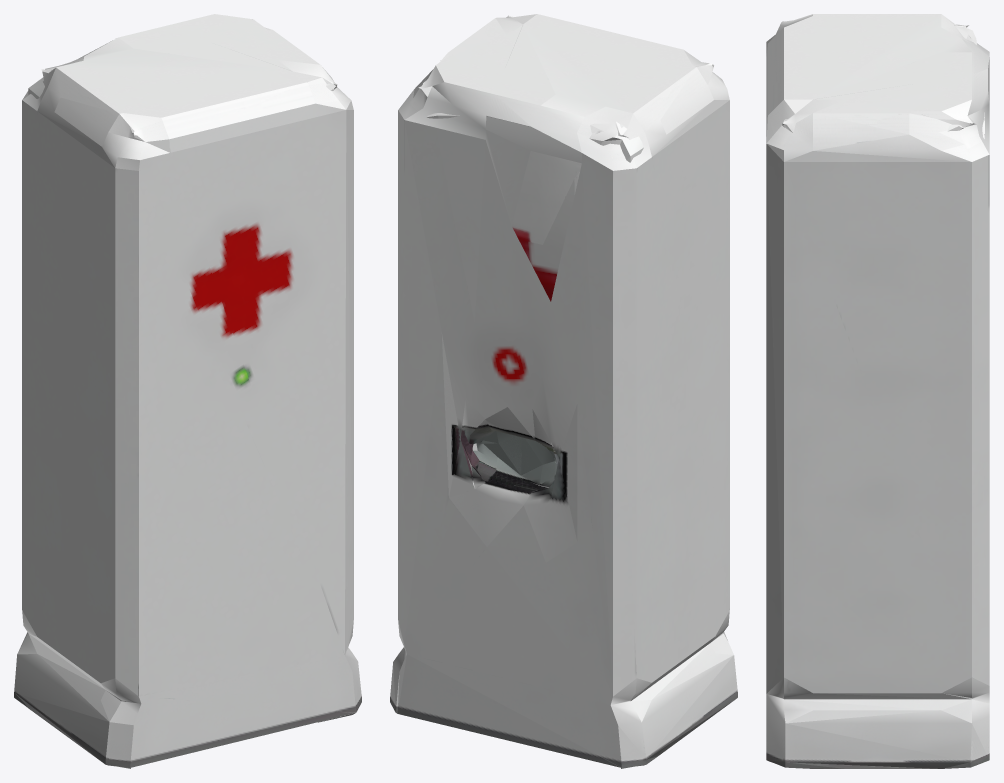
The model's file is HealthStation.glb.
3 renders of one model, left to right at view 1: azimuth 30°, elevation 25°; view 2: azimuth 150°, elevation 25°; view 3: azimuth 270°, elevation 25°, orthographic.
Parts seen in each view (by area): view 1: output_unwrapped; view 2: output_unwrapped; view 3: output_unwrapped.
Part boxes in pixels (x1,y1,x2,y2): output_unwrapped: [14, 14, 361, 768]; output_unwrapped: [390, 14, 737, 768]; output_unwrapped: [766, 14, 989, 768].
Size of the model in its own units: 0.8023 by 1.91 by 0.5988.
Materials: 1 (1 with a texture image).
